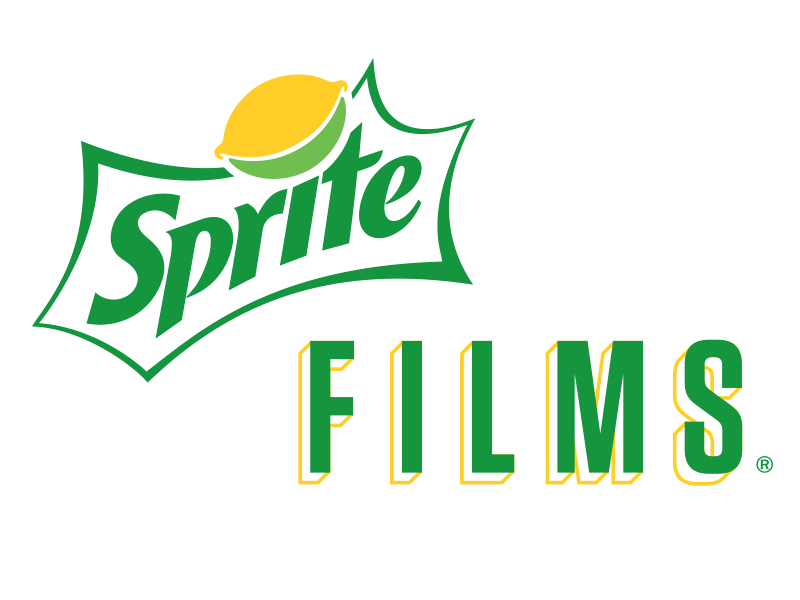sprite: (85, 122, 420, 336), (84, 122, 420, 334)
